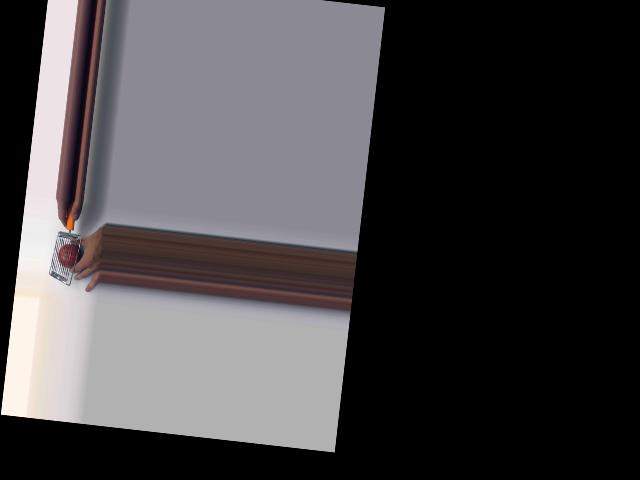tomato: (57, 241, 82, 268)
